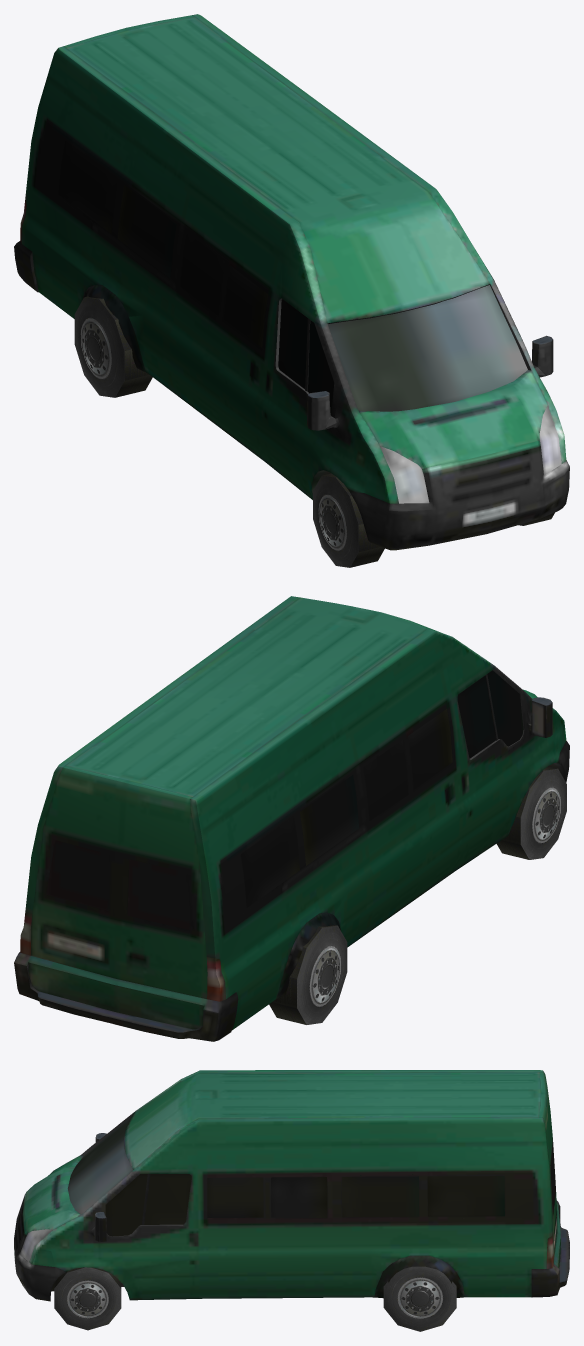
File: car 9.FBX
3 views of the same model, one above another, from view 1: azimuth 30°, elevation 25°; view 2: azimuth 150°, elevation 25°; view 3: azimuth 270°, elevation 25° (orthographic). The views are drawn at different scales.
Visible parts, largest first — view 1: mini_bus__3__1, Wheels_bus_truck__1__68, Wheels_bus_truck_68; view 2: mini_bus__3__1, Wheels_bus_truck__1__68, Wheels_bus_truck_68; view 3: mini_bus__3__1, Wheels_bus_truck__1__68, Wheels_bus_truck_68.
Boxes of the visible parts, x1,y1,x2,y2 form: mini_bus__3__1: [14, 14, 569, 550]; Wheels_bus_truck__1__68: [74, 296, 152, 397]; Wheels_bus_truck_68: [313, 473, 554, 567]; mini_bus__3__1: [14, 596, 569, 1041]; Wheels_bus_truck__1__68: [269, 924, 347, 1024]; Wheels_bus_truck_68: [496, 766, 566, 859]; mini_bus__3__1: [14, 1070, 569, 1301]; Wheels_bus_truck__1__68: [383, 1266, 456, 1331]; Wheels_bus_truck_68: [54, 1267, 121, 1330].
Bounding box in the file's own units: 23.67 × 26.21 × 64.95.
Materials: 2 (2 with a texture image).
